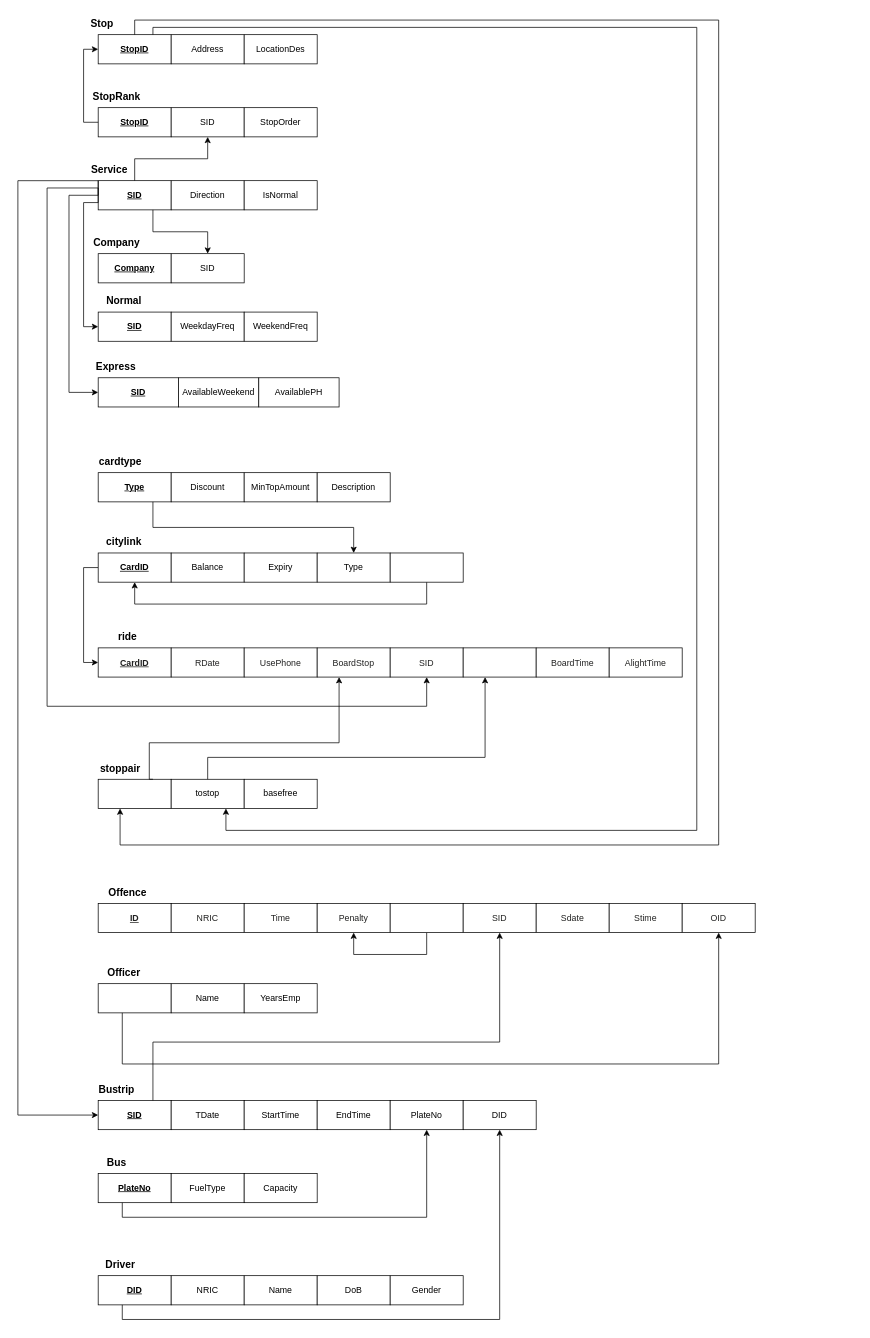
This 870x1338 diagram has some shape labels left out. Each missing label, with the centre of its shape:
"AlightStop" belongs at point (499, 662).
"fromstop" belongs at point (134, 793).
"OfficerID" belongs at point (134, 998).
"OldcardID" belongs at point (426, 567).
"Paycard" belongs at point (426, 918).
